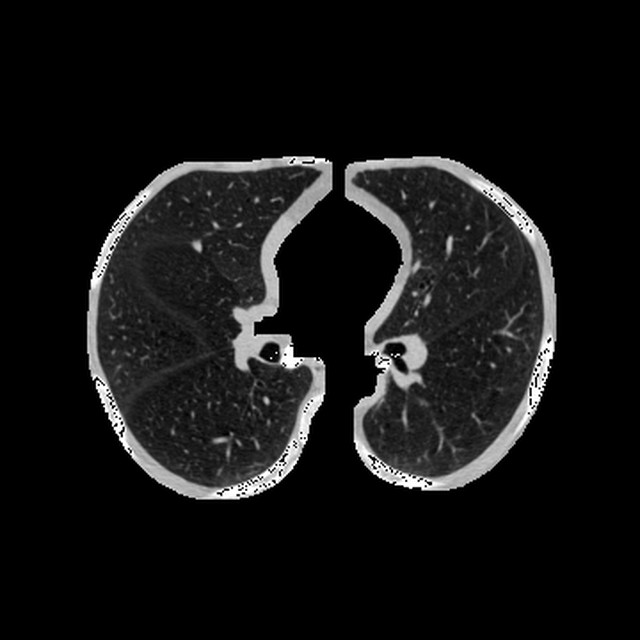PN: (194, 242, 201, 249)
